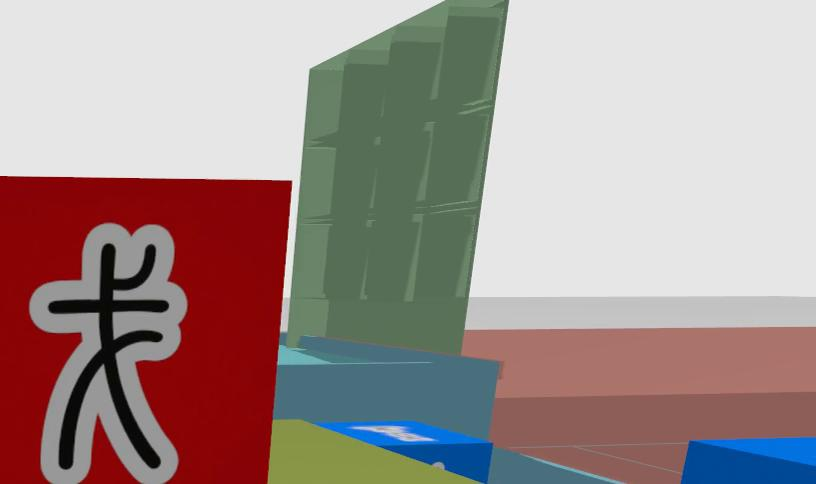KFS_FAKE: (0, 176, 290, 484), (30, 223, 186, 484)
KFS_REAL: (318, 421, 492, 482), (680, 437, 815, 484)
